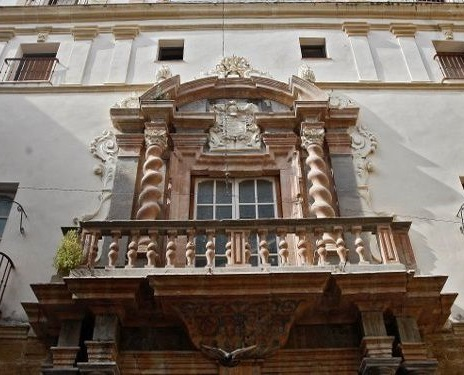columna-salomonica: (305, 143, 339, 217), (135, 145, 164, 219)
fronton-partido: (134, 68, 333, 120)
